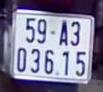0: (16, 46, 28, 74)
1: (59, 49, 73, 76)
3: (69, 20, 82, 48), (29, 46, 41, 75)
5: (74, 49, 88, 78), (25, 16, 36, 44)
6: (43, 48, 56, 75)
9: (36, 18, 48, 45)
A: (58, 19, 69, 47)
